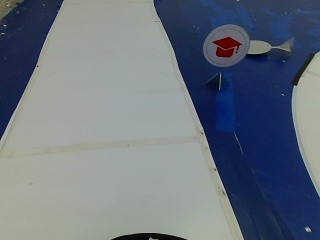school: (201, 23, 249, 67)
